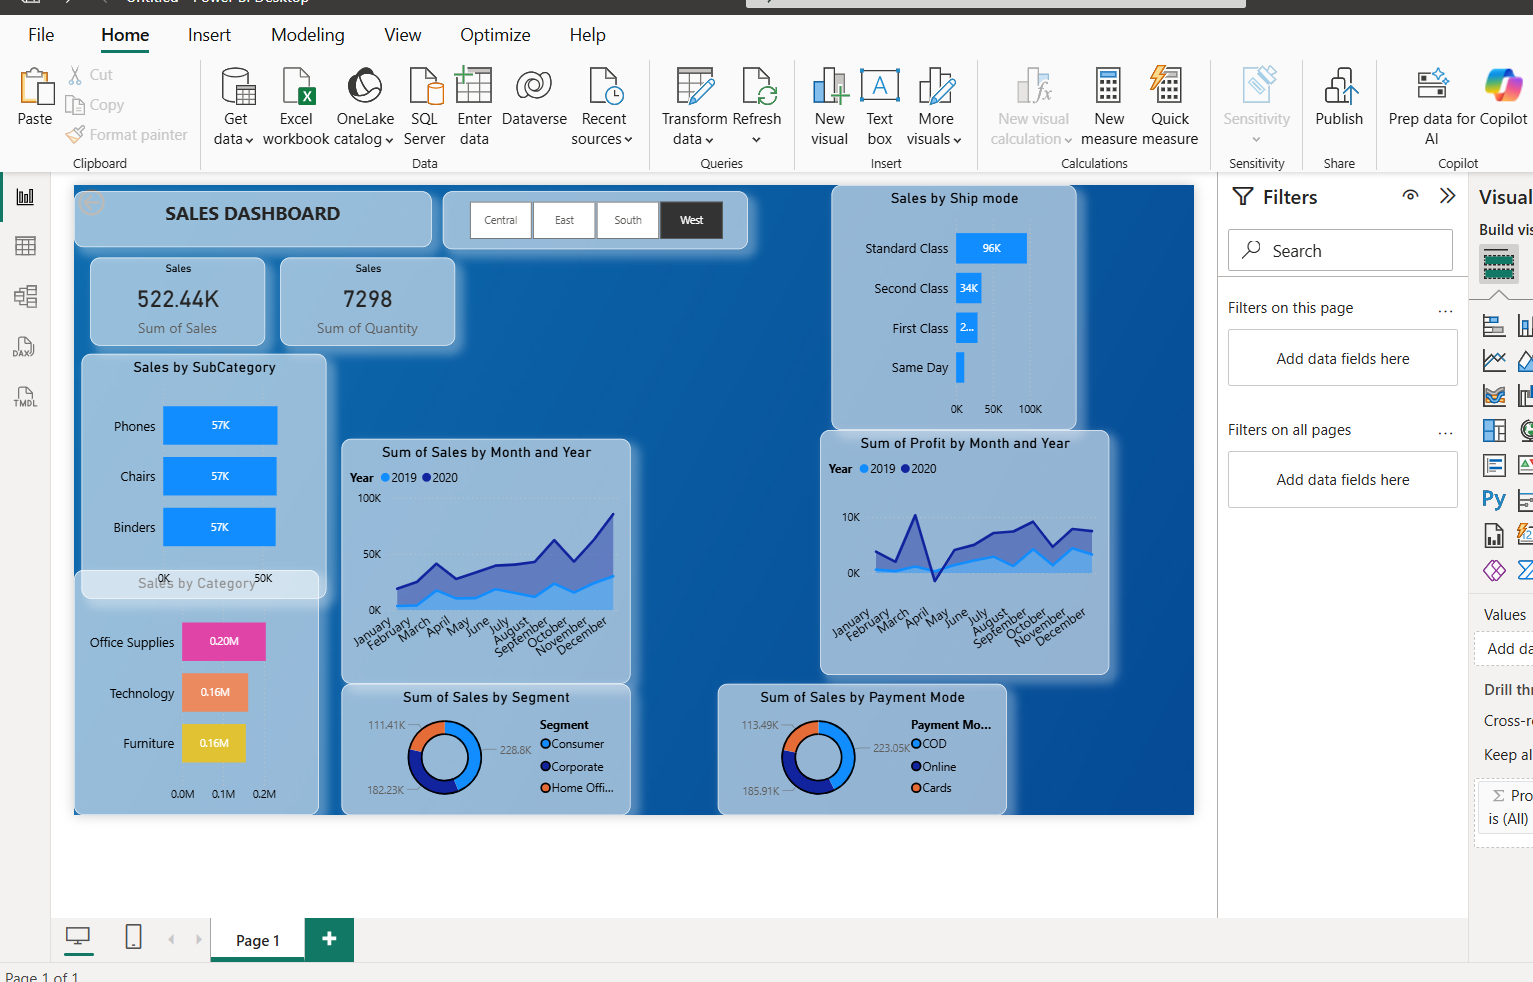

The dashboard page shown, as its layout file describes it:
{"tool":"powerbi","page":{"name":"Page 1","canvas":[1280,720],"ordinal":0},"visuals":[{"type":"clusteredBarChart","title":" Sales by Category","fields":{"Category":["SuperStore_Sales_Dataset (1).Category"],"Y":["Sum(SuperStore_Sales_Dataset (1).Sales)"]},"box":[8.3,456.7,280,263.3],"z":0},{"type":"clusteredBarChart","title":" Sales by SubCategory","fields":{"Category":["SuperStore_Sales_Dataset (1).Sub-Category"],"Y":["Sum(SuperStore_Sales_Dataset (1).Sales)"]},"box":[8.3,193.3,280,246.7],"z":1000},{"type":"clusteredBarChart","title":" Sales by Ship mode","fields":{"Category":["SuperStore_Sales_Dataset (1).Ship Mode"],"Y":["Sum(SuperStore_Sales_Dataset (1).Sales)"]},"box":[690,194,318,262],"z":2000},{"type":"stackedAreaChart","fields":{"Y":["Sum(SuperStore_Sales_Dataset (1).Sales)"],"Category":["SuperStore_Sales_Dataset (1).Order Date.Variation.Date Hierarchy.Month","SuperStore_Sales_Dataset (1).Order Date.Variation.Date Hierarchy.Day"],"Series":["SuperStore_Sales_Dataset (1).Order Date.Variation.Date Hierarchy.Year"]},"box":[306.7,193.3,365,280],"z":3000},{"type":"stackedAreaChart","fields":{"Category":["SuperStore_Sales_Dataset (1).Order Date.Variation.Date Hierarchy.Month","SuperStore_Sales_Dataset (1).Order Date.Variation.Date Hierarchy.Day"],"Series":["SuperStore_Sales_Dataset (1).Order Date.Variation.Date Hierarchy.Year"],"Y":["Sum(SuperStore_Sales_Dataset (1).Profit)"]},"box":[698,476,582,226],"z":4000},{"type":"actionButton","box":[0,0,100,40],"z":5000},{"type":"donutChart","fields":{"Category":["SuperStore_Sales_Dataset (1).Segment"],"Y":["Sum(SuperStore_Sales_Dataset (1).Sales)"]},"box":[306,488,366,214],"z":6000},{"type":"donutChart","fields":{"Category":["SuperStore_Sales_Dataset (1).Payment Mode","SuperStore_Sales_Dataset (1).Segment"],"Y":["Sum(SuperStore_Sales_Dataset (1).Sales)"]},"box":[916,8,364,178],"z":7000},{"type":"slicer","fields":{"Values":["SuperStore_Sales_Dataset (1).Region"]},"box":[421.7,8.3,480,65],"z":8000},{"type":"textbox","box":[0,7.5,408.8,63.8],"z":9000},{"type":"card","title":"Sales","fields":{"Values":["Sum(SuperStore_Sales_Dataset (1).Sales)"]},"box":[8.3,81.7,226.7,105],"z":10000},{"type":"card","title":"Sales","fields":{"Values":["Sum(SuperStore_Sales_Dataset (1).Quantity)"]},"box":[251.7,83.3,208.3,105],"z":11000},{"type":"card","title":"Sales","fields":{"Values":["Sum(SuperStore_Sales_Dataset (1).Profit)"]},"box":[471.7,83.3,200,101.7],"z":12000},{"type":"card","title":"Sales","fields":{"Values":["Sum(SuperStore_Sales_Dataset (1).Avgdelivery)"]},"box":[690,83.3,200,101.7],"z":13000},{"type":"map","fields":{"Category":["SuperStore_Sales_Dataset (1).State"],"Size":["Sum(SuperStore_Sales_Dataset (1).Sales)"]},"box":[1022,200,258,256],"z":14000}]}

Visuals, with their boxes on the page's 1280x720 design canvas (x1, y1, x2, y2). These are canvas units, not pixel positions in the 1533x982 screenshot, which may show the page scaled, cropped or inside an application window:
" Sales by Category" clusteredBarChart: left=8, top=457, right=288, bottom=720
" Sales by SubCategory" clusteredBarChart: left=8, top=193, right=288, bottom=440
" Sales by Ship mode" clusteredBarChart: left=690, top=194, right=1008, bottom=456
stackedAreaChart - Sum(SuperStore_Sales_Dataset (1).Sales) x SuperStore_Sales_Dataset (1).Order Date.Variation.Date Hierarchy.Month: left=307, top=193, right=672, bottom=473
stackedAreaChart - SuperStore_Sales_Dataset (1).Order Date.Variation.Date Hierarchy.Month x SuperStore_Sales_Dataset (1).Order Date.Variation.Date Hierarchy.Day: left=698, top=476, right=1280, bottom=702
actionButton: left=0, top=0, right=100, bottom=40
donutChart - SuperStore_Sales_Dataset (1).Segment x Sum(SuperStore_Sales_Dataset (1).Sales): left=306, top=488, right=672, bottom=702
donutChart - SuperStore_Sales_Dataset (1).Payment Mode x SuperStore_Sales_Dataset (1).Segment: left=916, top=8, right=1280, bottom=186
slicer - SuperStore_Sales_Dataset (1).Region: left=422, top=8, right=902, bottom=73
textbox: left=0, top=8, right=409, bottom=71
"Sales" card: left=8, top=82, right=235, bottom=187
"Sales" card: left=252, top=83, right=460, bottom=188
"Sales" card: left=472, top=83, right=672, bottom=185
"Sales" card: left=690, top=83, right=890, bottom=185
map - SuperStore_Sales_Dataset (1).State x Sum(SuperStore_Sales_Dataset (1).Sales): left=1022, top=200, right=1280, bottom=456
